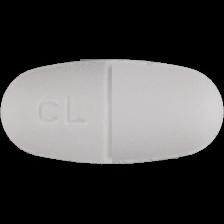63629-4099: (0, 0, 224, 224)
